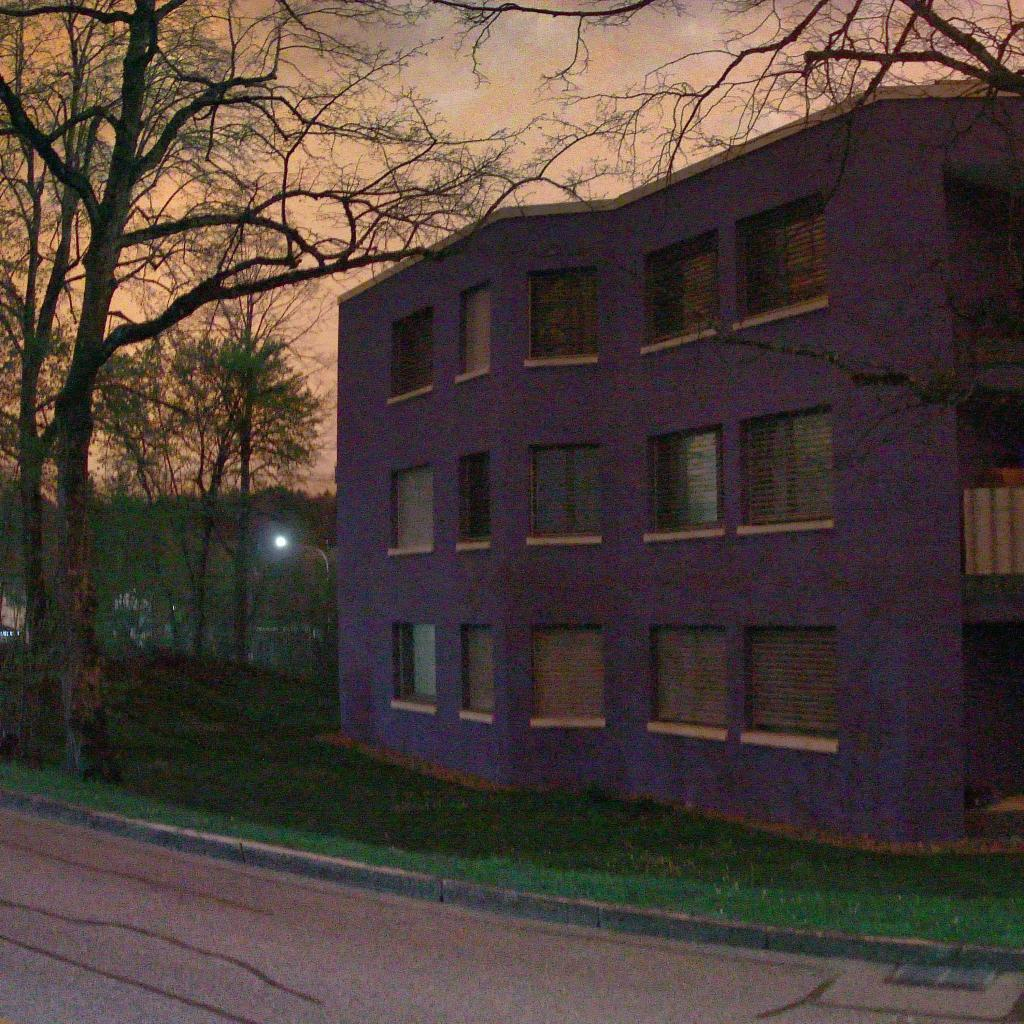facade: (333, 74, 1024, 857)
street: (0, 784, 1024, 1024)
window: (945, 173, 1024, 366), (961, 619, 1024, 813), (735, 191, 829, 321), (739, 404, 834, 526), (744, 628, 836, 738), (643, 228, 721, 347), (645, 423, 722, 532), (648, 624, 729, 727), (527, 443, 602, 536), (531, 625, 605, 718), (961, 466, 1024, 575), (527, 266, 600, 359), (389, 302, 434, 399), (388, 462, 434, 550), (392, 623, 437, 706), (459, 624, 495, 714), (457, 450, 492, 542), (460, 279, 491, 375)
